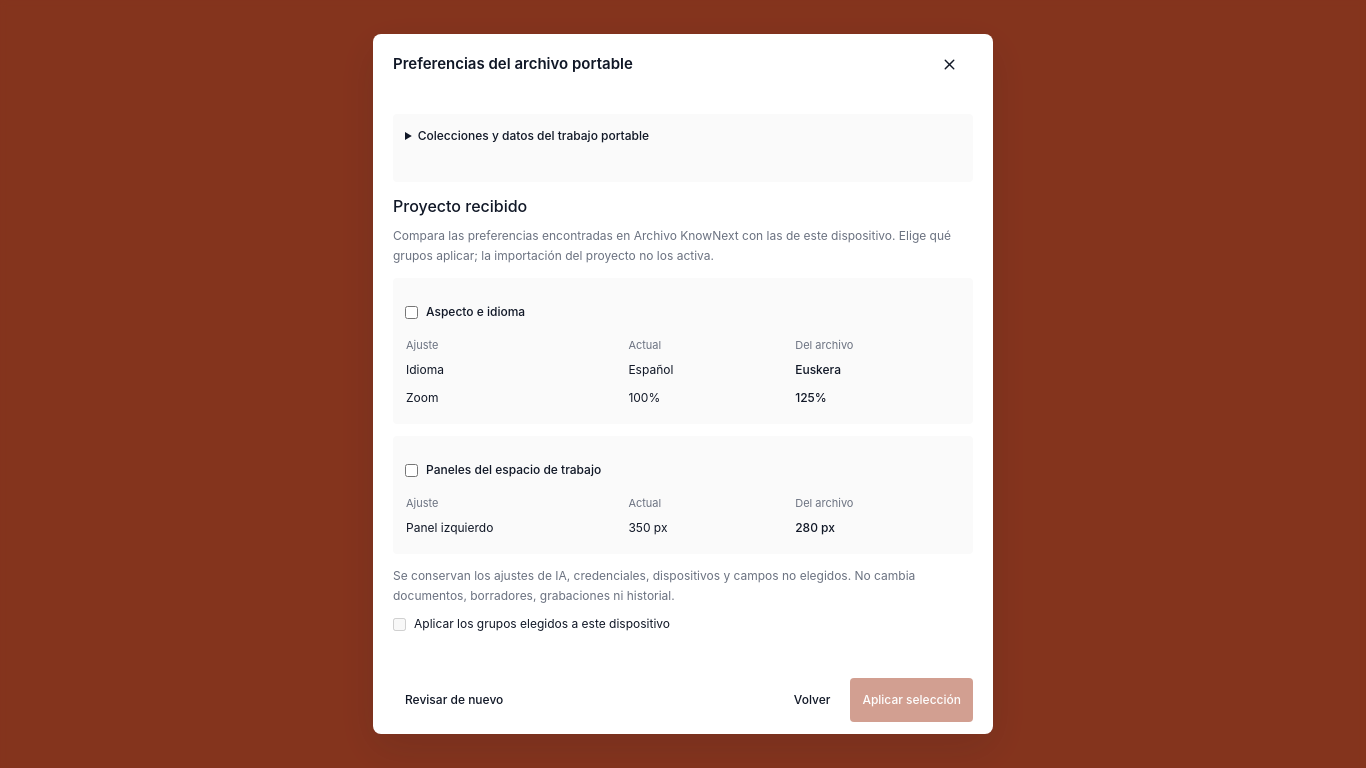
Scenario: reconciles an uncertain result by reading once without replay and requires a new review
expect the text "Euskera" is shown: met, box [794, 356, 961, 384]
Click the checkbox labelled "Paneles del espacio de trabajo" at {"x": 412, "y": 470}, box [405, 464, 418, 476]
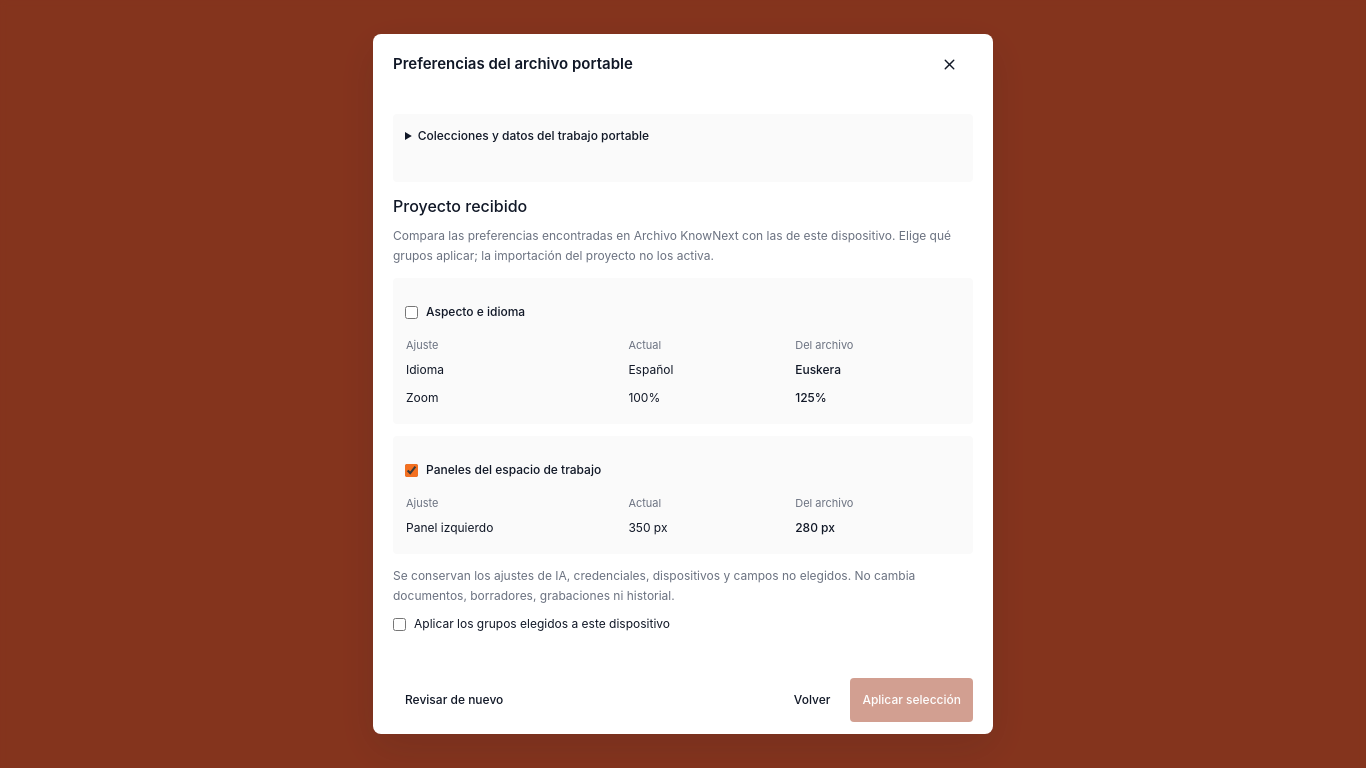
Click the checkbox labelled "Aplicar los grupos elegidos a este dispositivo" at {"x": 400, "y": 624}, box [393, 618, 406, 631]
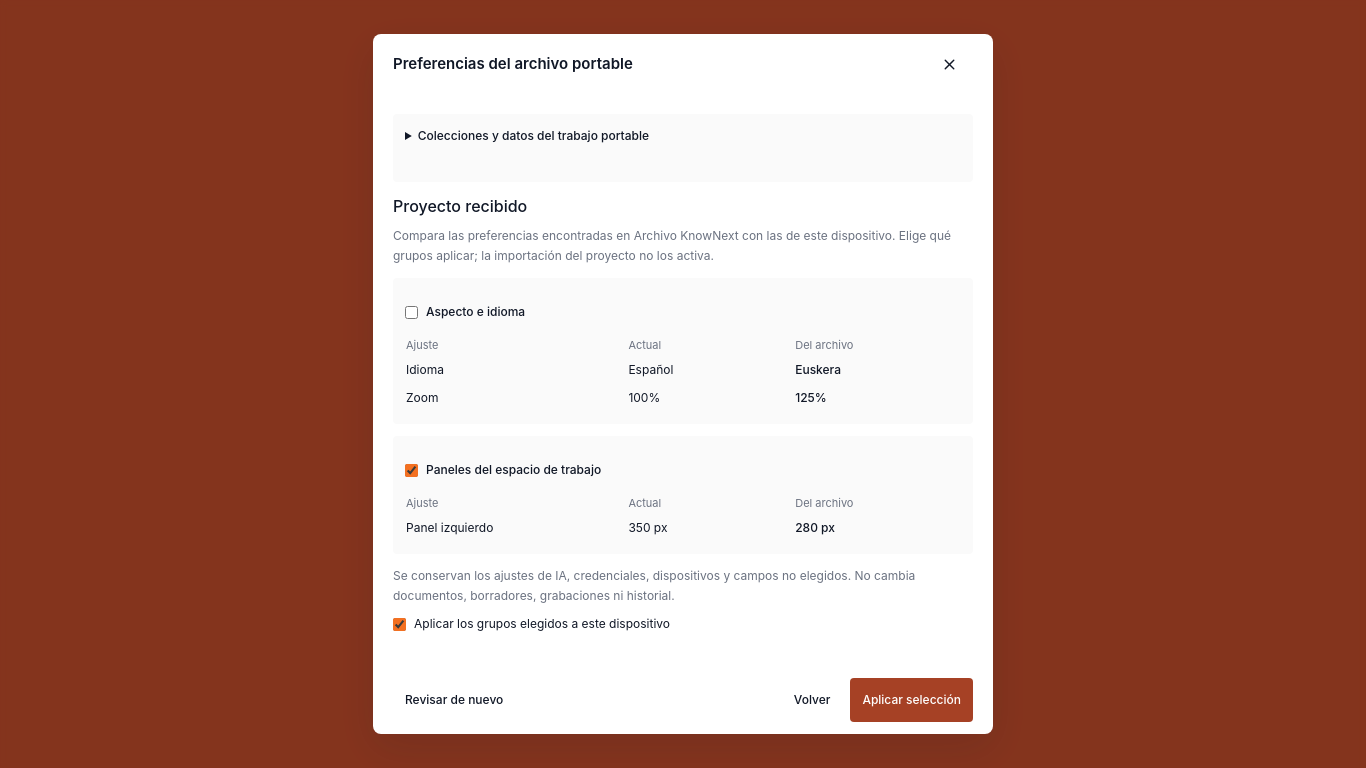
Click the button "Aplicar selección" at {"x": 912, "y": 700}, box [850, 678, 973, 722]
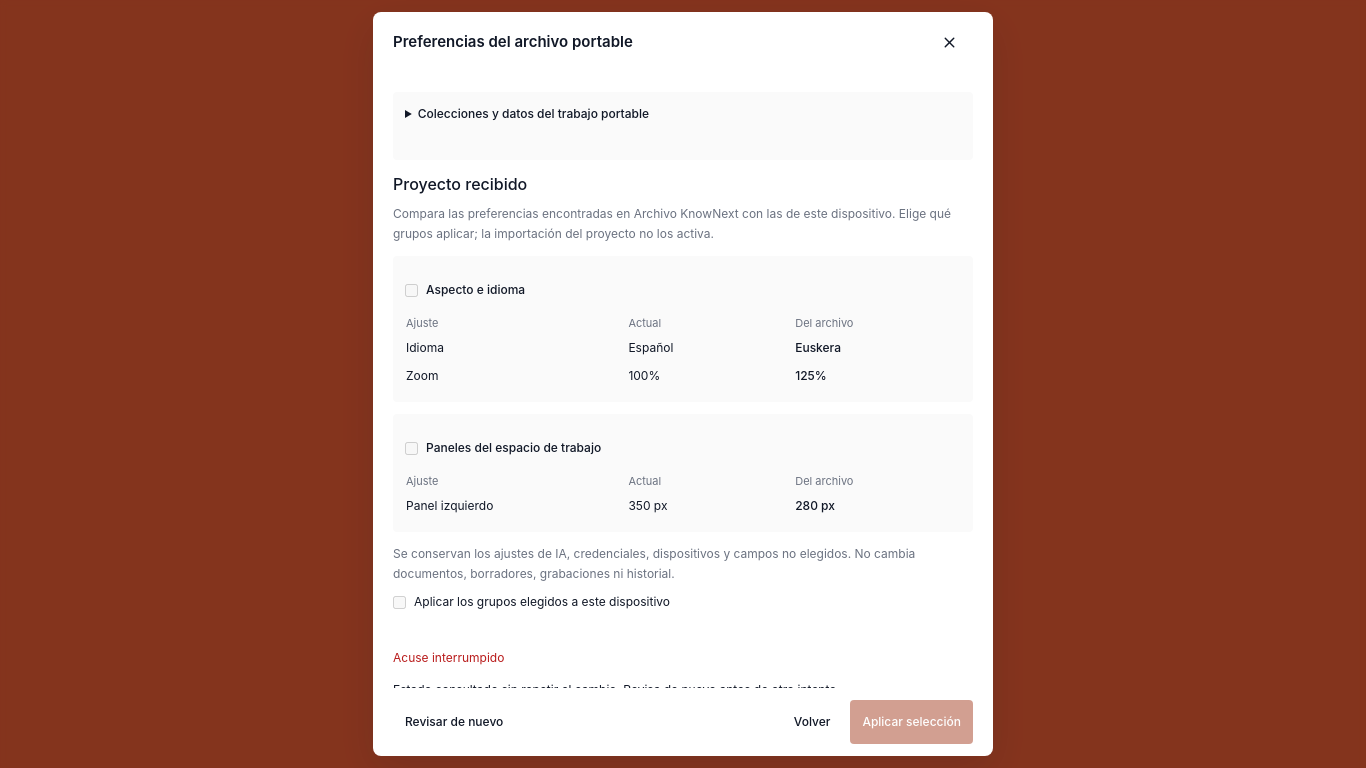
expect the checkbox labelled "Paneles del espacio de trabajo" is disabled: met, box [405, 442, 418, 454]
Click the button "Revisar de nuevo" at {"x": 454, "y": 722}, box [393, 700, 515, 744]
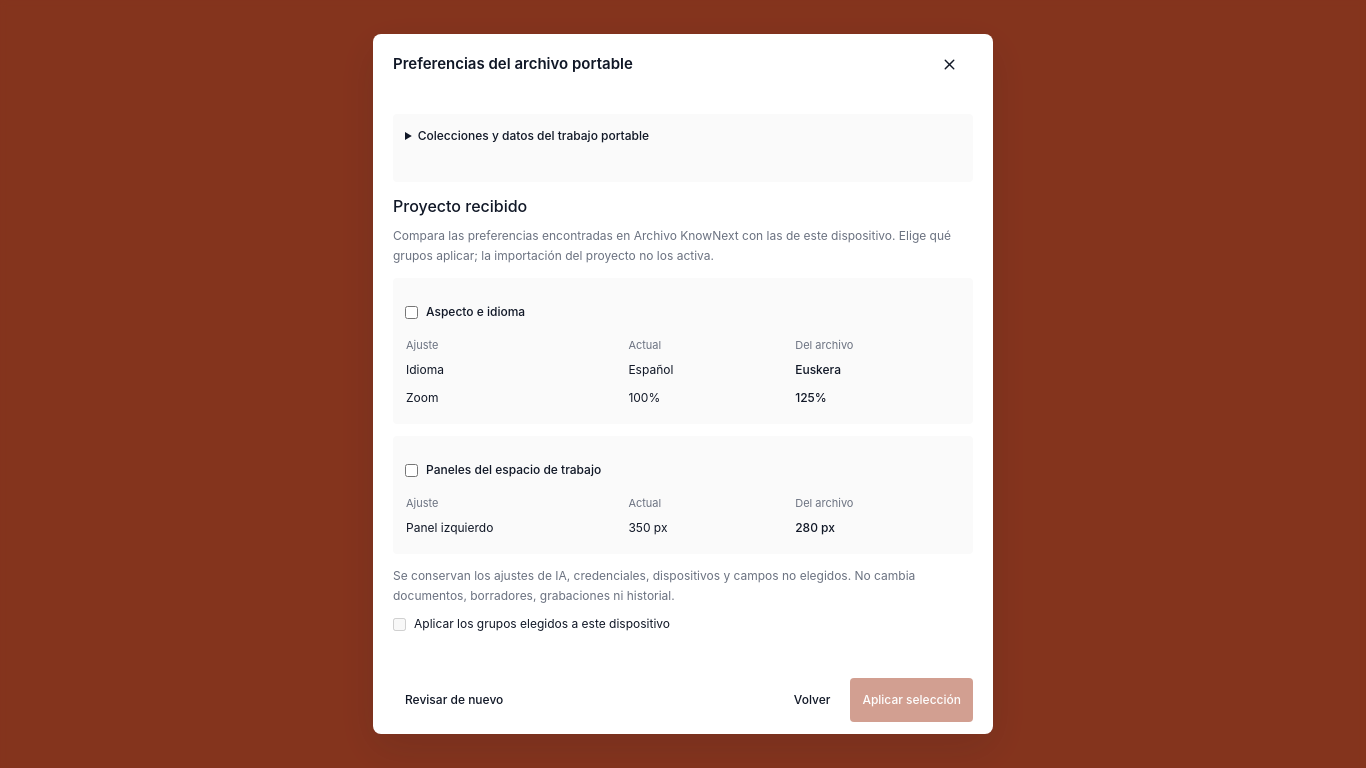
expect the checkbox labelled "Aplicar los grupos elegidos a este dispositivo" is not checked: met, box [393, 618, 406, 631]
expect the checkbox labelled "Paneles del espacio de trabajo" is enabled: met, box [405, 464, 418, 476]
